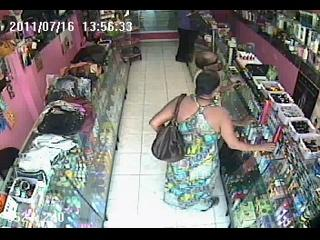Normal: (148, 70, 278, 224), (150, 93, 187, 164), (175, 11, 200, 66)
